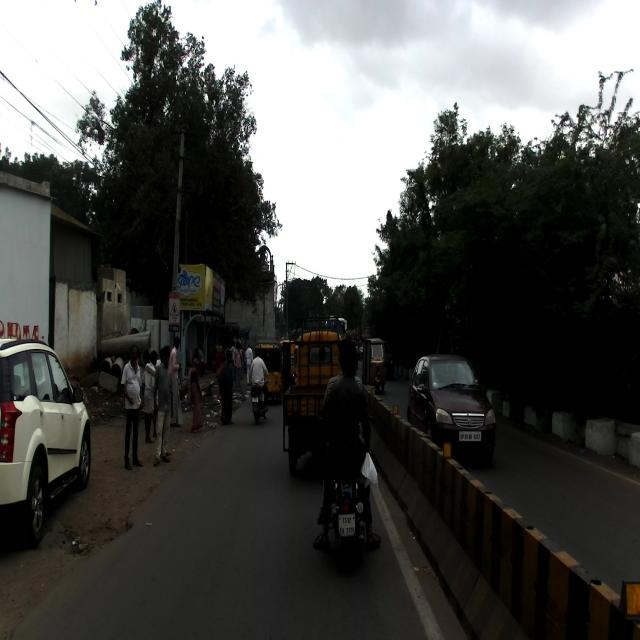autorickshaw: (280, 307, 350, 476)
car: (0, 334, 93, 550), (408, 342, 494, 461)
motorcycle: (318, 416, 379, 578), (250, 374, 268, 426)
